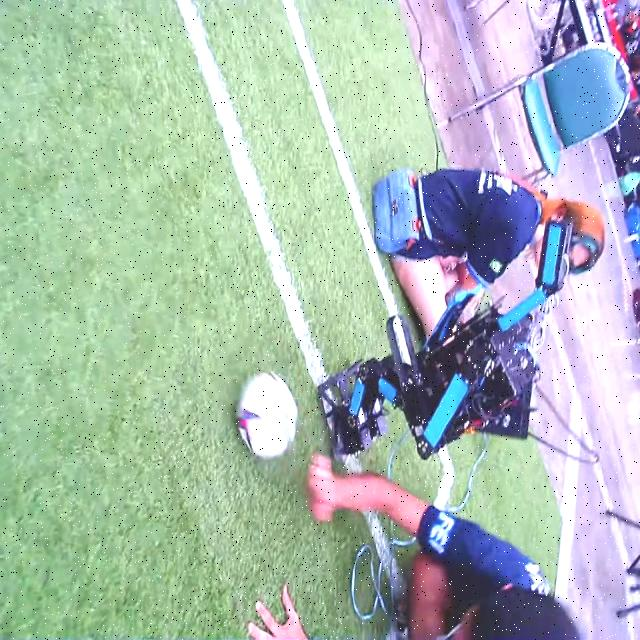ball: (239, 374, 297, 459)
